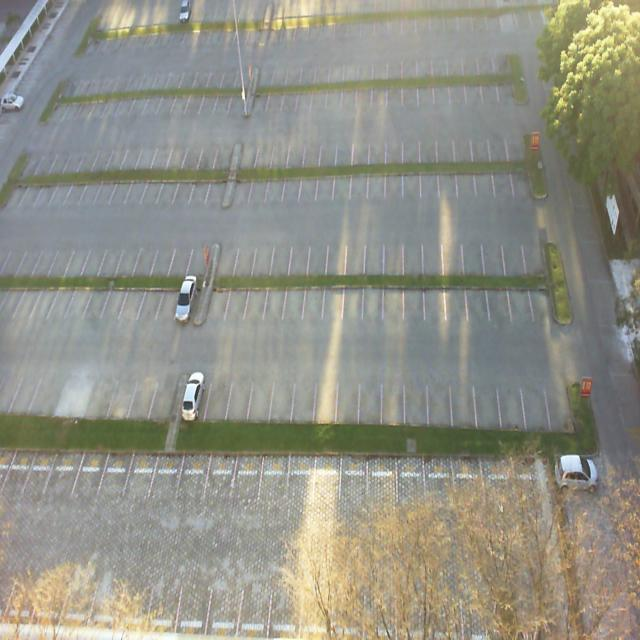space-empty: (94, 445, 132, 502), (123, 442, 158, 502), (71, 446, 106, 501), (148, 444, 182, 500), (43, 445, 78, 499), (231, 451, 264, 504), (545, 370, 576, 426), (499, 373, 528, 432), (204, 448, 238, 498), (175, 445, 208, 496), (312, 451, 342, 507), (223, 370, 254, 424), (21, 446, 55, 494), (259, 448, 290, 500), (523, 371, 550, 428), (64, 367, 93, 420), (476, 372, 502, 429), (117, 271, 146, 322), (222, 272, 249, 326), (83, 371, 112, 421), (288, 449, 314, 504), (106, 371, 134, 422), (452, 374, 479, 426), (136, 267, 162, 320), (428, 375, 454, 428), (127, 370, 154, 420), (312, 372, 336, 428), (268, 373, 294, 424), (154, 274, 180, 324), (203, 370, 229, 420), (246, 372, 272, 422), (262, 270, 286, 324), (530, 270, 557, 318), (148, 374, 175, 422), (359, 371, 382, 426), (382, 371, 405, 424), (101, 270, 125, 320), (241, 275, 265, 325), (335, 373, 359, 423), (290, 372, 313, 424), (405, 374, 428, 426), (486, 273, 511, 320), (483, 227, 507, 275), (443, 226, 466, 273), (205, 273, 225, 327), (130, 236, 156, 276), (113, 238, 140, 276), (509, 276, 532, 320), (303, 276, 324, 324), (155, 165, 178, 208), (525, 229, 548, 272), (444, 277, 467, 320), (467, 275, 488, 322), (148, 237, 172, 278), (188, 164, 211, 206), (363, 276, 384, 322), (282, 276, 302, 324), (167, 238, 192, 276), (505, 227, 526, 272), (322, 277, 343, 322), (425, 229, 445, 276), (188, 239, 212, 278), (139, 165, 162, 205), (511, 156, 534, 196), (287, 234, 310, 274), (404, 226, 424, 272), (404, 274, 424, 320), (426, 276, 446, 322), (172, 165, 193, 208), (382, 231, 404, 272), (229, 238, 252, 277), (204, 166, 226, 206), (464, 228, 484, 272), (231, 164, 252, 205), (213, 239, 236, 276), (384, 276, 402, 322), (307, 234, 328, 273), (345, 231, 364, 274), (268, 236, 290, 272), (251, 235, 272, 272), (345, 275, 362, 320), (324, 235, 344, 273), (364, 235, 383, 273), (458, 162, 478, 198), (478, 158, 496, 198), (299, 166, 317, 205), (494, 160, 514, 195), (267, 166, 284, 207), (283, 164, 300, 205), (250, 166, 268, 204), (368, 162, 386, 200), (422, 163, 440, 198), (333, 165, 350, 202), (388, 162, 404, 200), (403, 163, 420, 198), (440, 162, 458, 195), (316, 166, 332, 200), (351, 164, 367, 198)
space-occupied: (174, 272, 198, 324), (181, 373, 206, 418)
